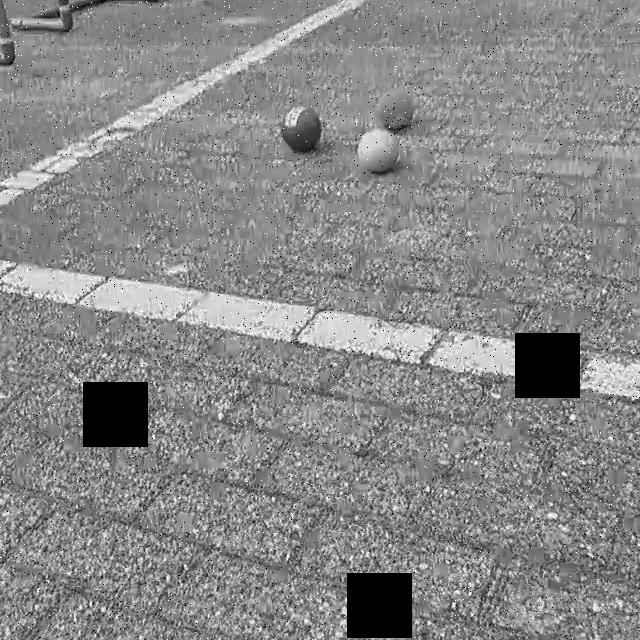ball: (355, 127, 406, 180), (278, 102, 324, 159), (372, 84, 414, 132)
